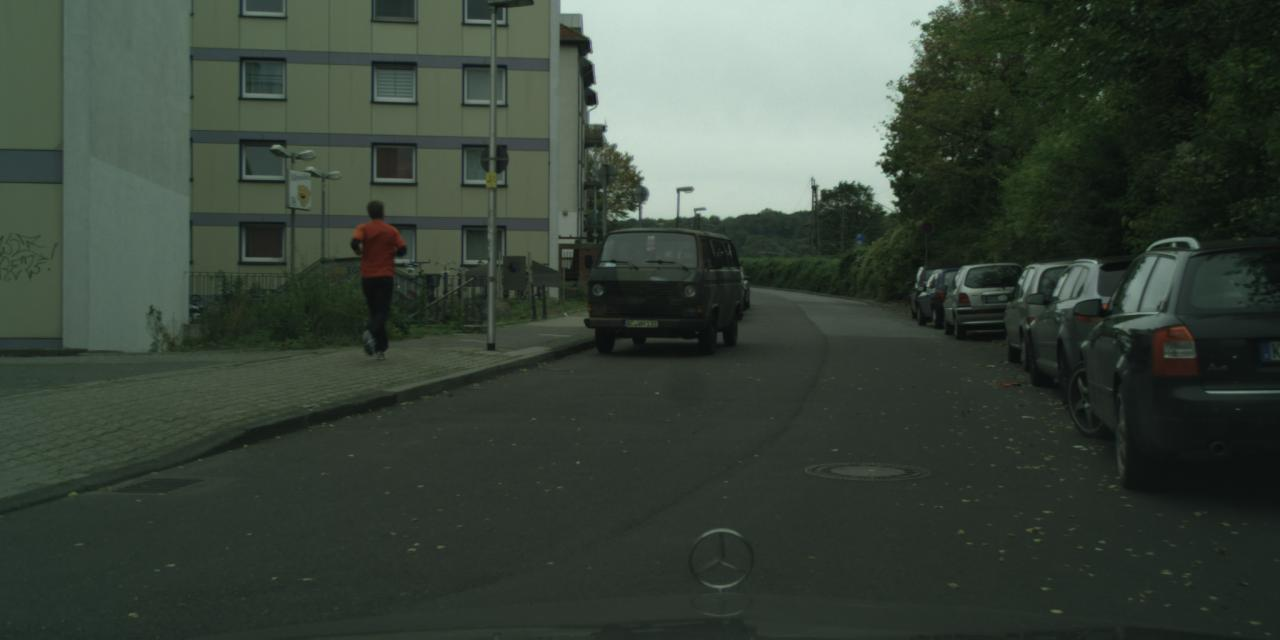ped: (344, 199, 408, 356)
